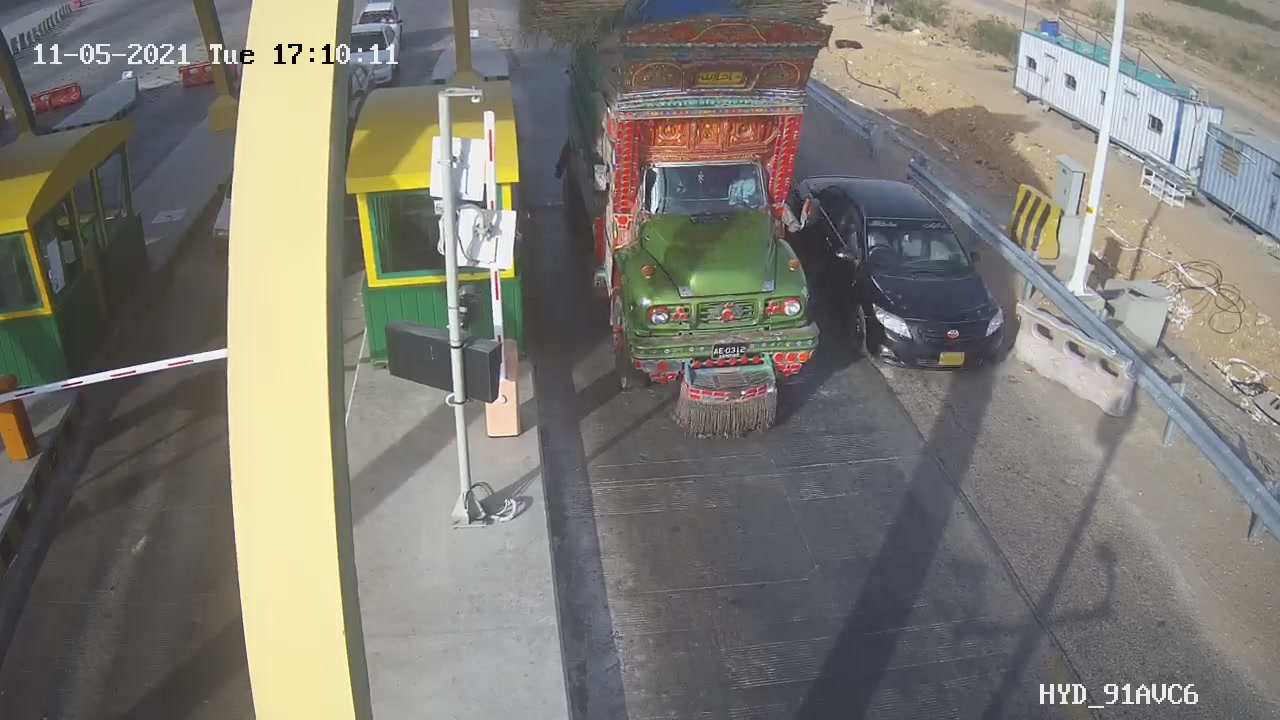F1: (786, 160, 1022, 391)
F5: (564, 3, 827, 454)
